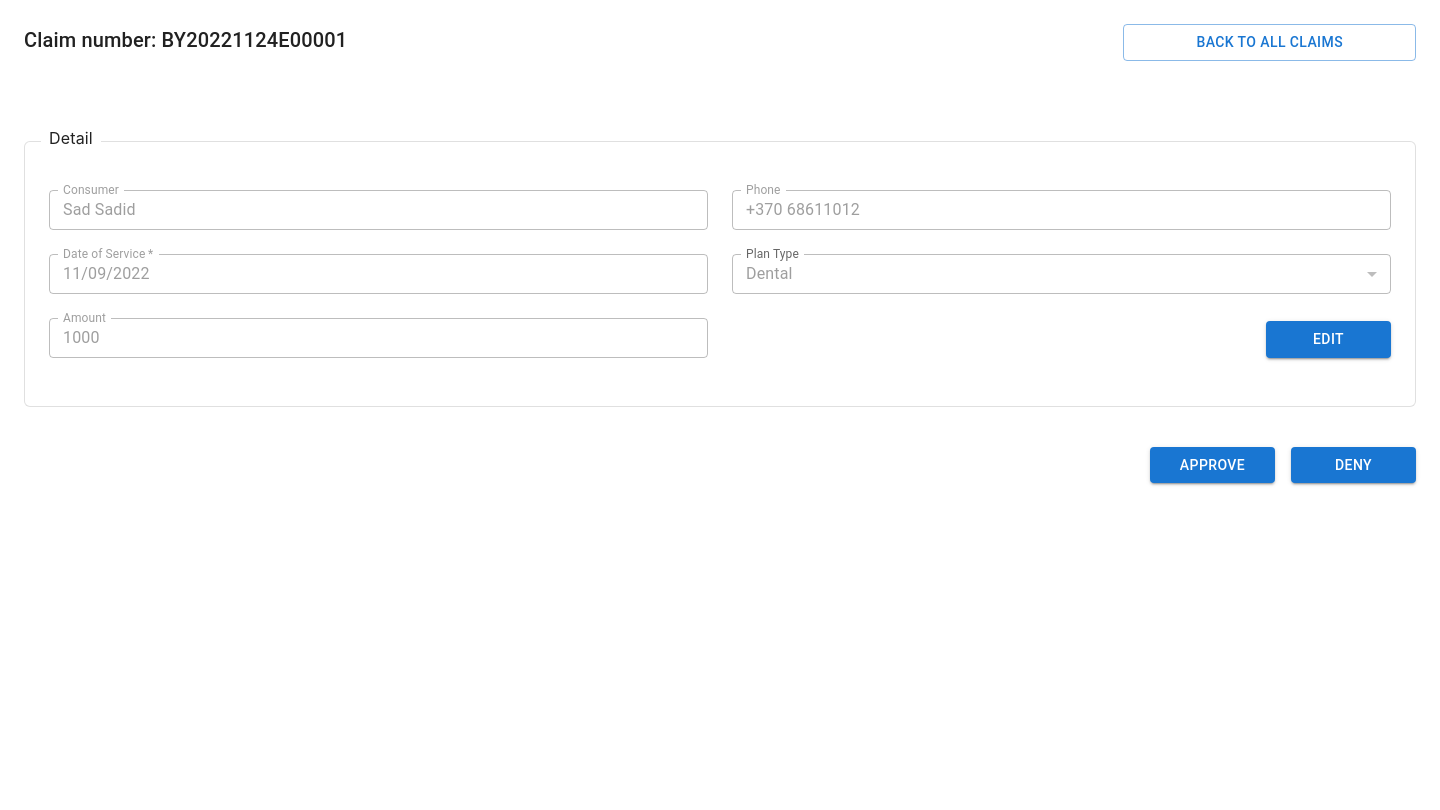
Scenario: Claim › should close confirmation popup when "Cancel" button is clicked
Step 1. Click the button "Approve" → (1212,465), box [1150,446,1275,483]
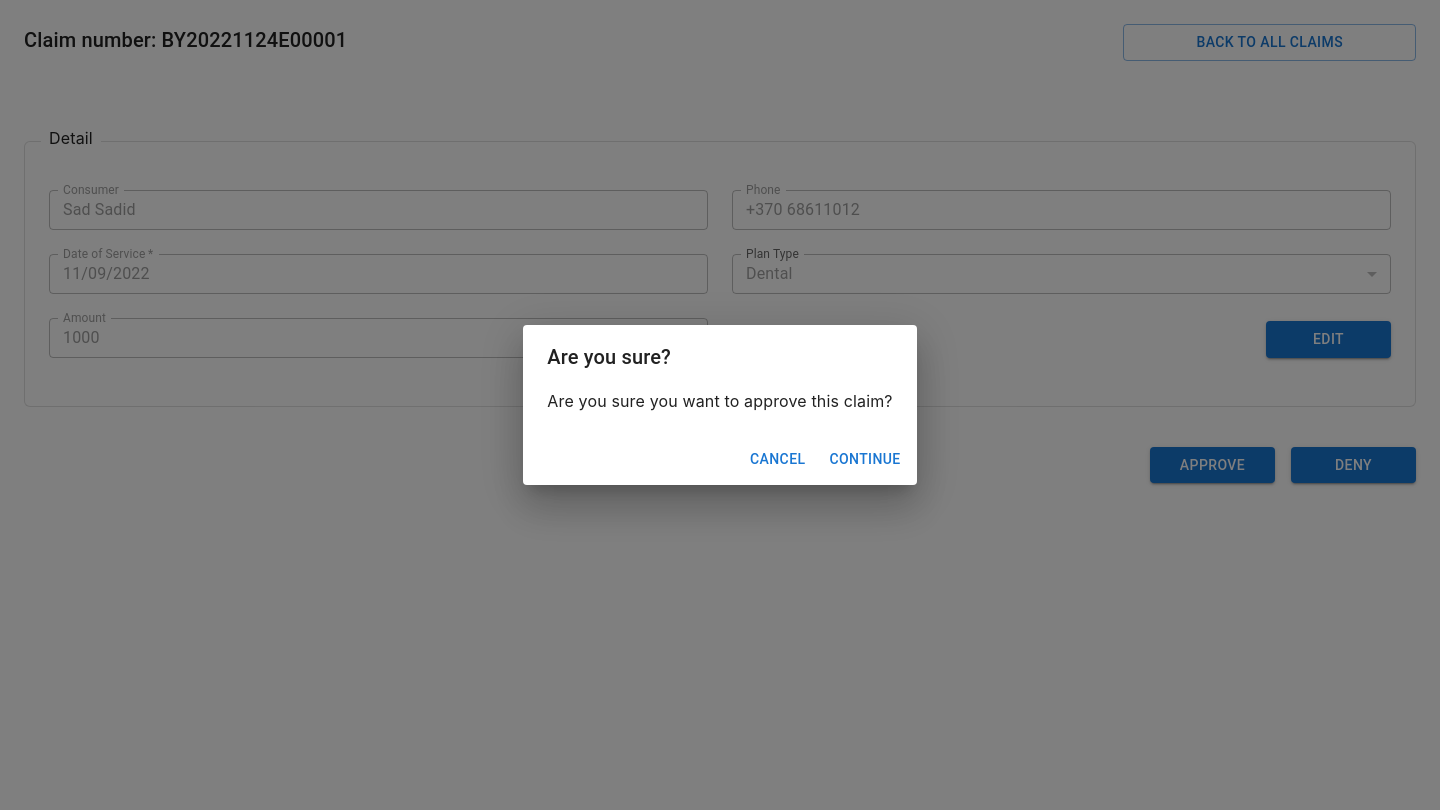
Step 2. Click the button with test id "cancel-popup" → (778,459), box [742,441,814,477]
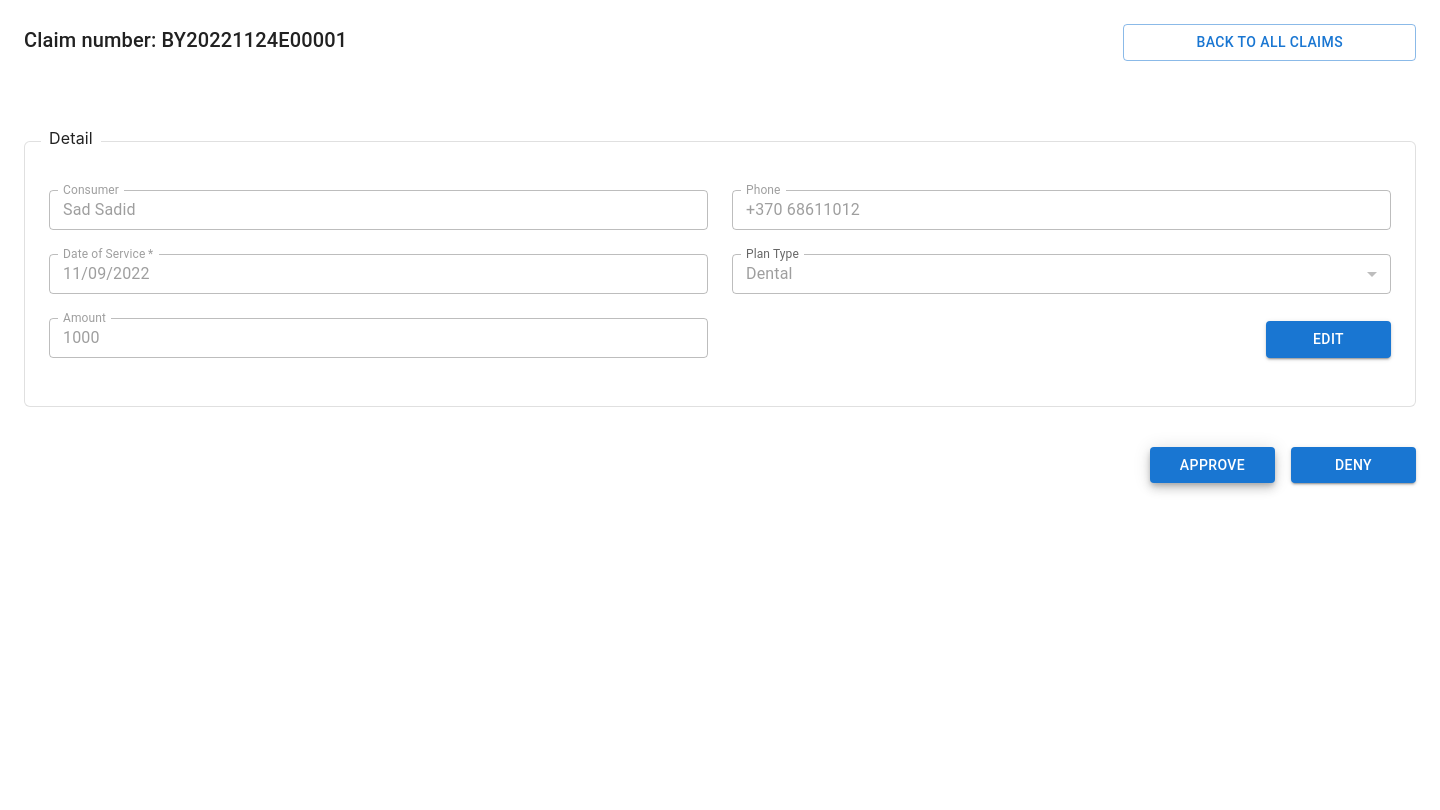
Expected: the text "Are you sure you want to approve this claim?" is gone
